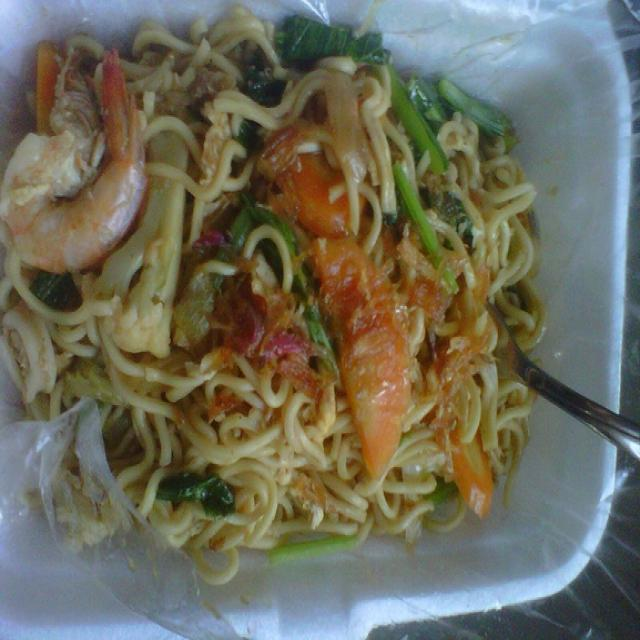面条主食: (3, 11, 626, 586)
